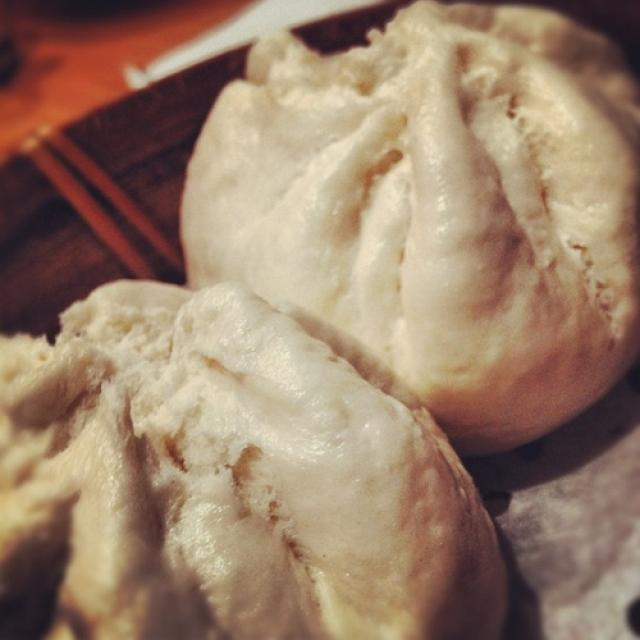带馅早点: (1, 10, 631, 634)
